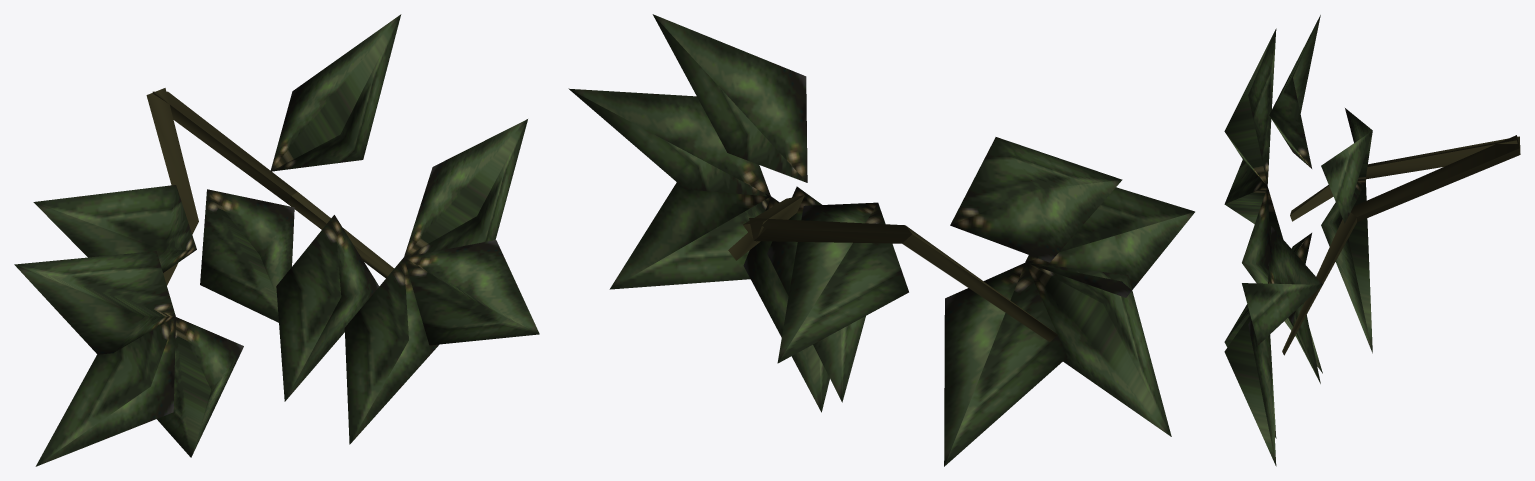
The model's file is PLANT3.obj.
3 views of the same model, side by side, from view 1: azimuth 30°, elevation 25°; view 2: azimuth 150°, elevation 25°; view 3: azimuth 270°, elevation 25° (orthographic). The views are drawn at different scales.
Parts seen in each view (by area): view 1: Group1; view 2: Group1; view 3: Group1.
Boxes of the visible parts, left/top/right/bottom form: Group1: left=14, top=14, right=539, bottom=466; Group1: left=568, top=14, right=1194, bottom=466; Group1: left=1224, top=15, right=1520, bottom=466.
Size of the model in its own units: 83.3 by 54.65 by 41.1.
1 material, 1 textured.
